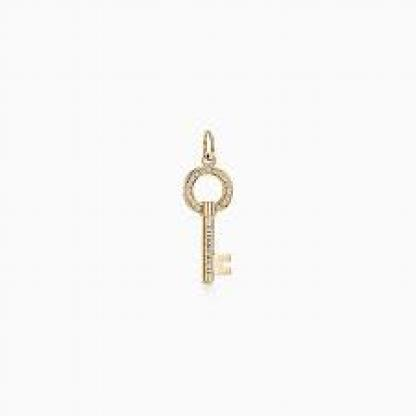key: (190, 132, 249, 309)
